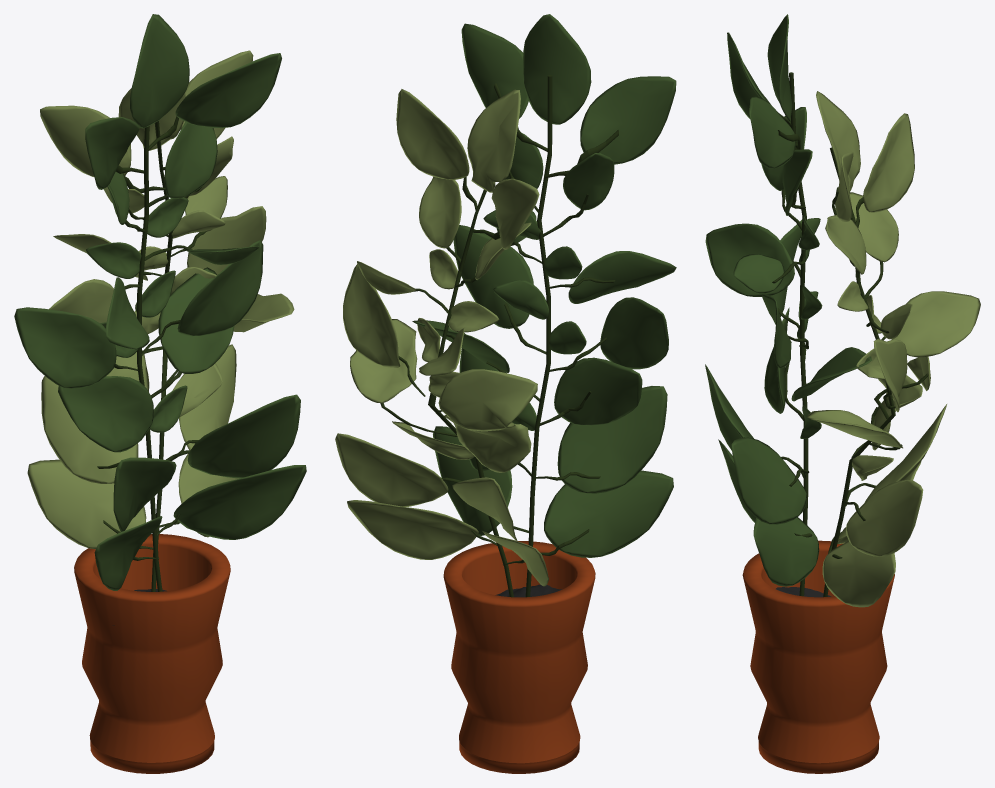
File: Plant4.fbx
3 renders of one model, left to right at view 1: azimuth 30°, elevation 25°; view 2: azimuth 150°, elevation 25°; view 3: azimuth 270°, elevation 25°, orthographic. The views are drawn at different scales.
Parts seen in each view (by area): view 1: Cylinder.217; view 2: Cylinder.217; view 3: Cylinder.217.
Part boxes in pixels (x1,y1,x2,y2): Cylinder.217: (14, 14, 306, 773); Cylinder.217: (335, 14, 676, 773); Cylinder.217: (705, 14, 980, 773).
Bounding box in the file's own units: 55.67 × 137 × 46.98.
